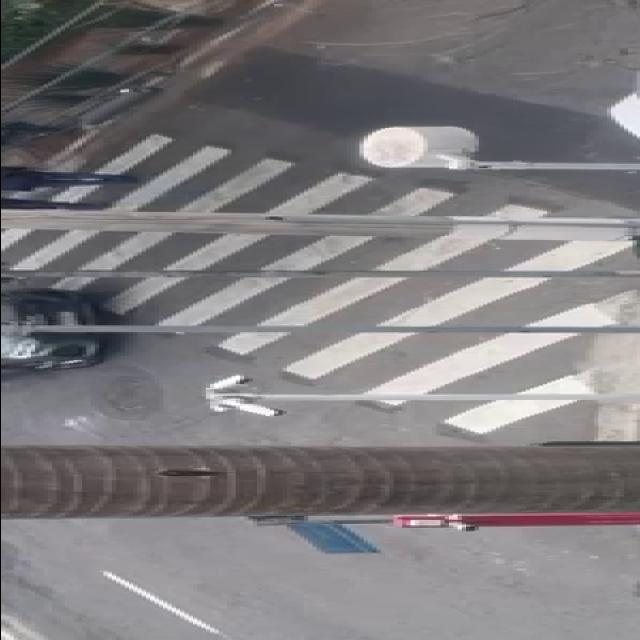car: (0, 282, 117, 387)
